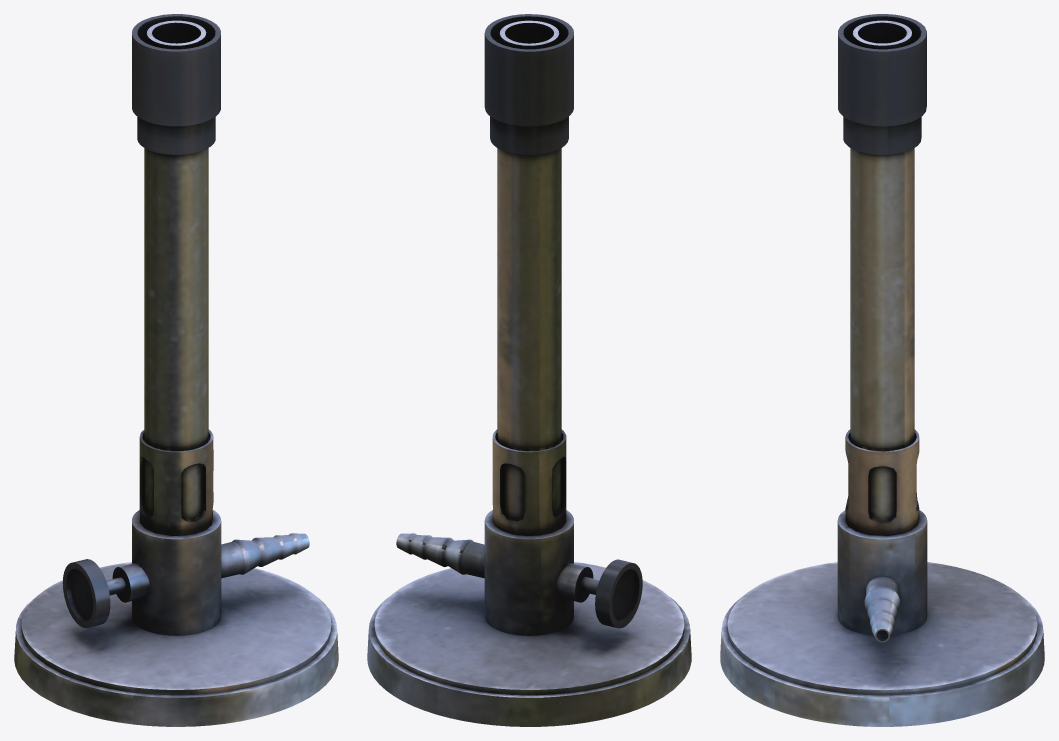
File: bunsen_burner.glb
3 renders of one model, left to right at view 1: azimuth 30°, elevation 25°; view 2: azimuth 150°, elevation 25°; view 3: azimuth 270°, elevation 25°, orthographic.
Visible parts, largest first — view 1: bunsen_burner; view 2: bunsen_burner; view 3: bunsen_burner.
Part boxes in pixels (left/top/right/bottom): bunsen_burner: left=14, top=14, right=338, bottom=726; bunsen_burner: left=367, top=14, right=691, bottom=726; bunsen_burner: left=720, top=14, right=1044, bottom=726.
Bounding box in the file's own units: 0.0717 × 0.1526 × 0.0718.
1 material, 1 textured.
